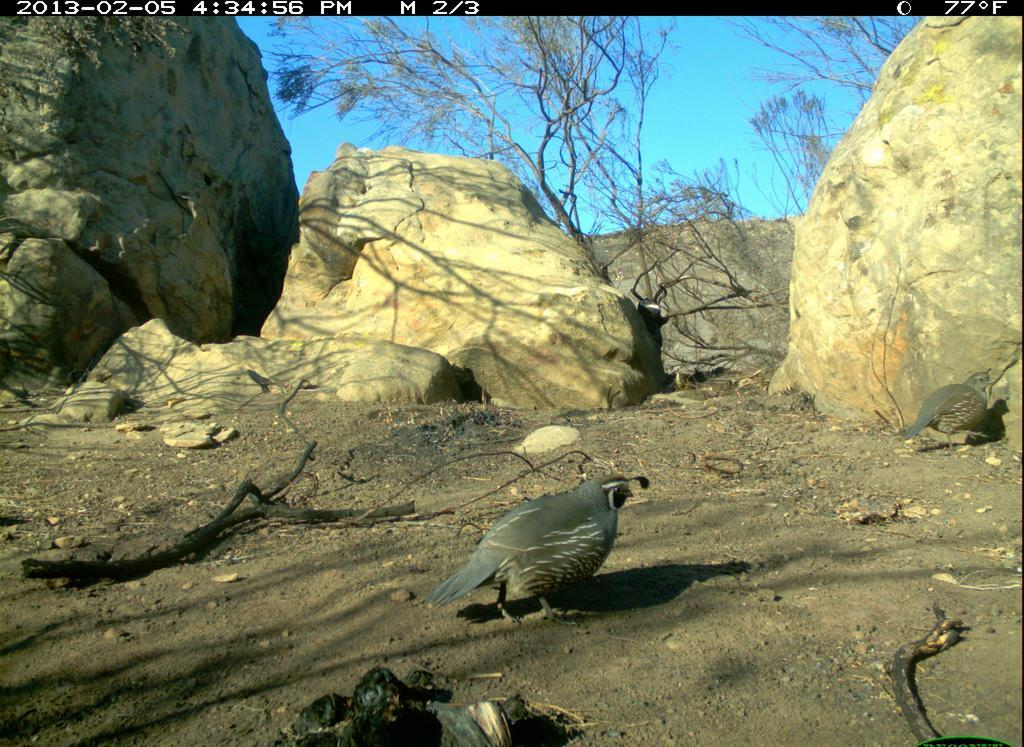bird: (424, 470, 653, 633), (898, 364, 1000, 460)
